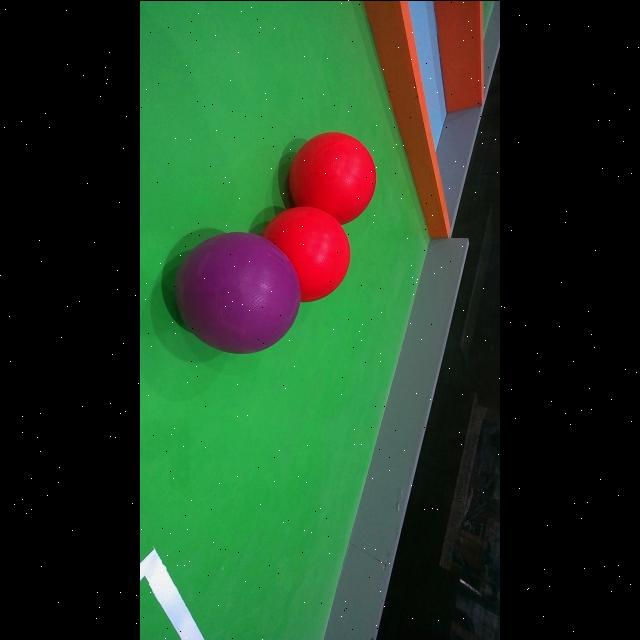P: (175, 231, 302, 353)
R: (262, 206, 350, 302), (280, 132, 378, 218)
